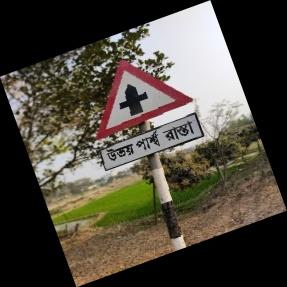Crossroad: (95, 60, 202, 174)
